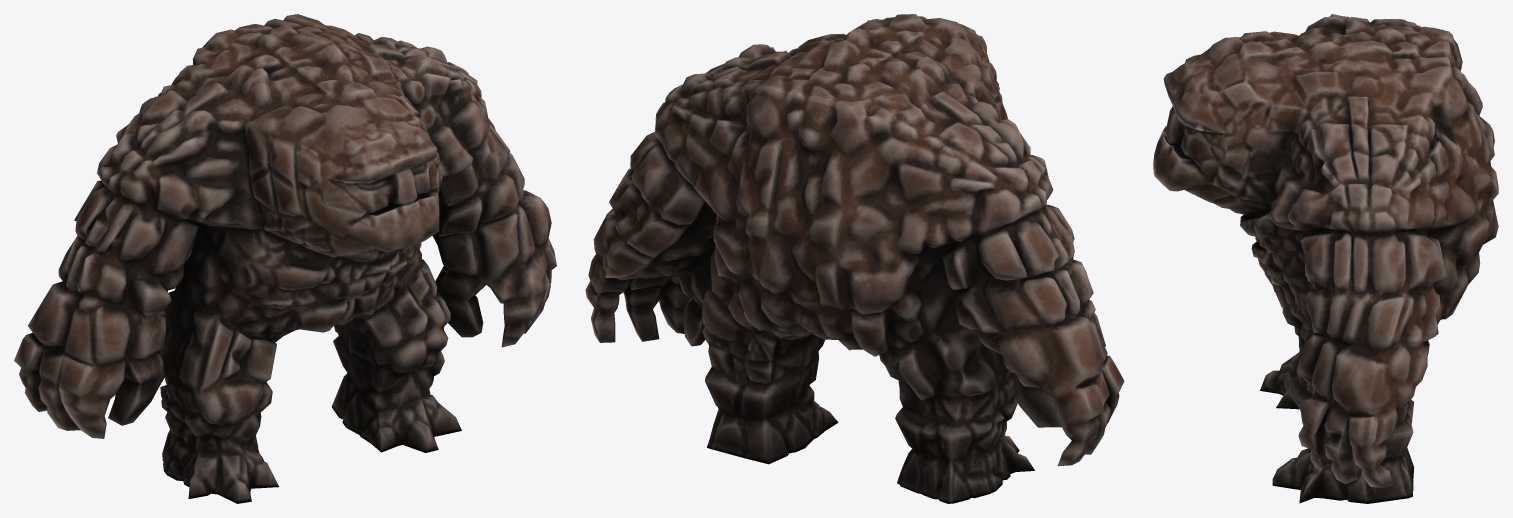
Rendered from MZ4250 - Galeb Duhr.glb.
3 renders of one model, left to right at view 1: azimuth 30°, elevation 25°; view 2: azimuth 150°, elevation 25°; view 3: azimuth 270°, elevation 25°, orthographic. The views are drawn at different scales.
Parts seen in each view (by area): view 1: body_low.001; view 2: body_low.001; view 3: body_low.001.
Part boxes in pixels (x1=…): body_low.001: x1=14, y1=14, x2=556, y2=503; body_low.001: x1=585, y1=14, x2=1124, y2=503; body_low.001: x1=1153, y1=14, x2=1498, y2=503.
Bounding box in the file's own units: 7.18 × 5.35 × 4.13.
Materials: 1 (1 with a texture image).
